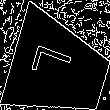L_E: (34, 46, 84, 92)
